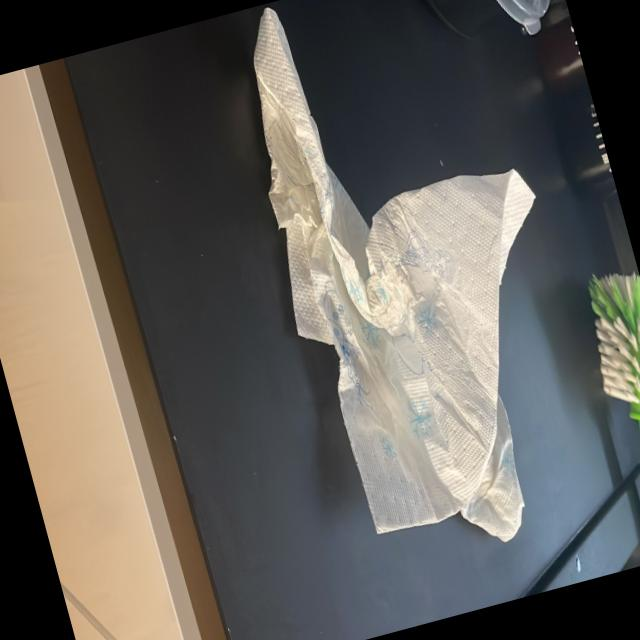organic waste: (207, 0, 625, 589)
